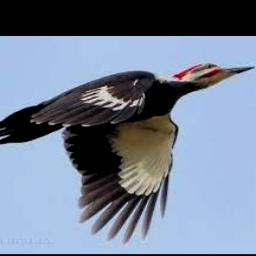Woodpecker: (0, 62, 256, 245)
